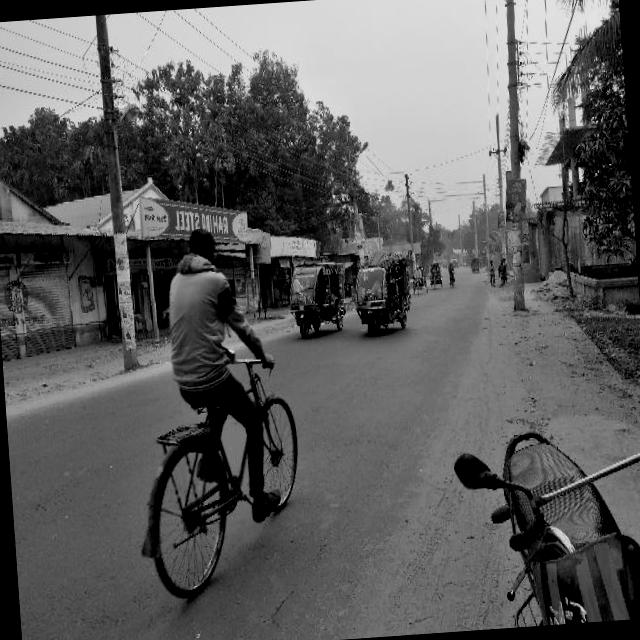motorcycle: (446, 397, 640, 628), (280, 250, 350, 342), (348, 250, 413, 340), (412, 264, 430, 294), (429, 260, 444, 288), (471, 254, 481, 272), (462, 256, 468, 266), (443, 258, 448, 268)
truck: (450, 252, 460, 268)
